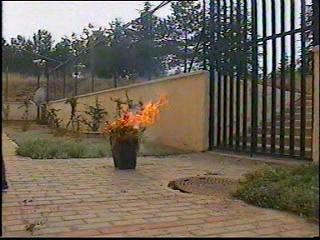fire: (112, 97, 166, 130)
